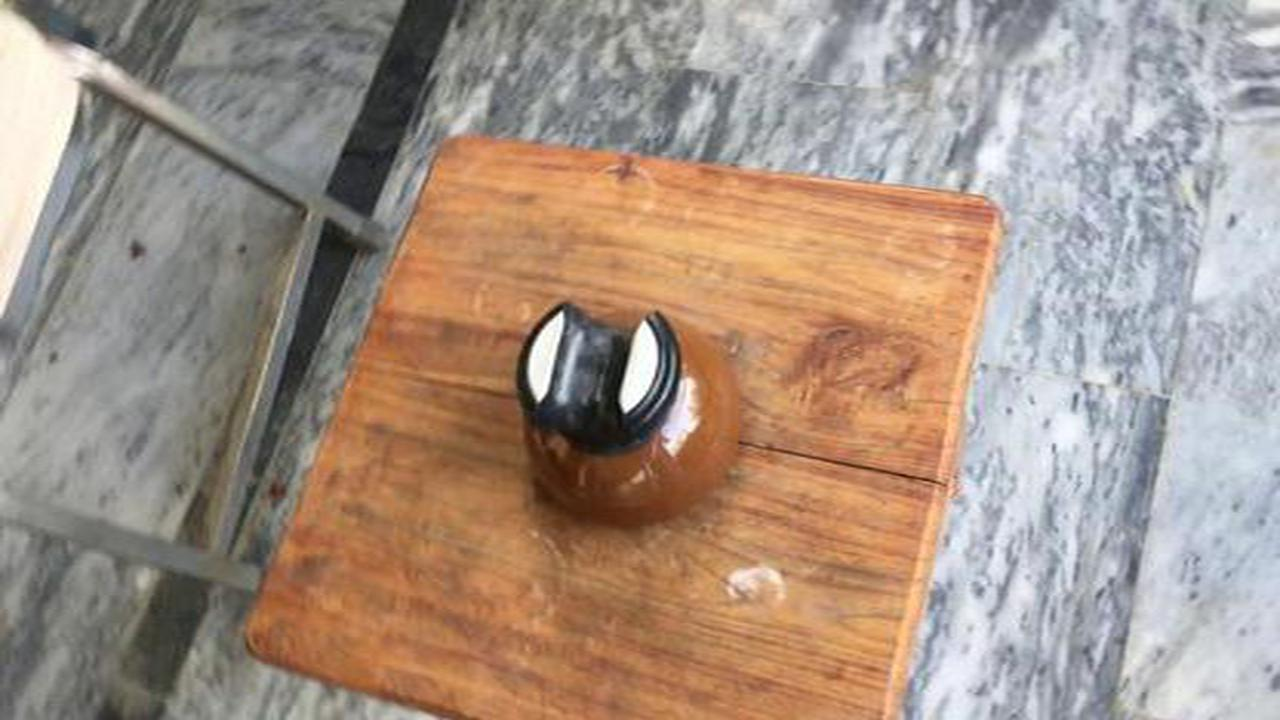insulator_pin: (487, 288, 767, 535)
